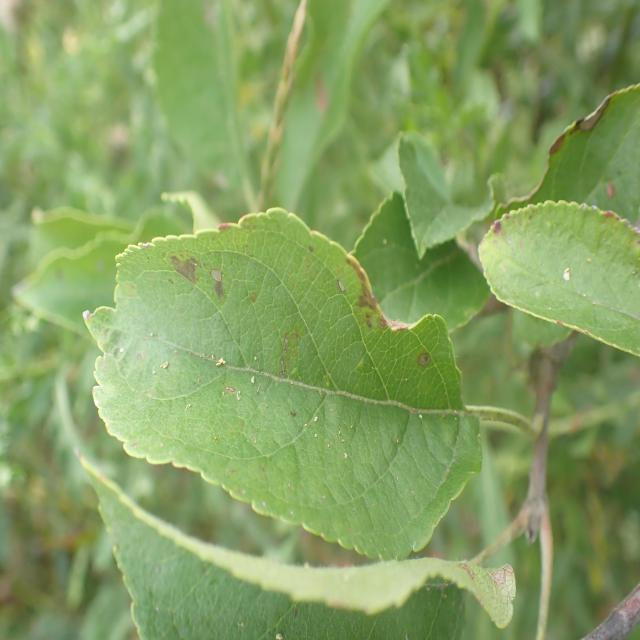Black Rot: (327, 241, 437, 380), (147, 240, 233, 318), (541, 91, 622, 158), (452, 541, 522, 611), (487, 200, 541, 250)
